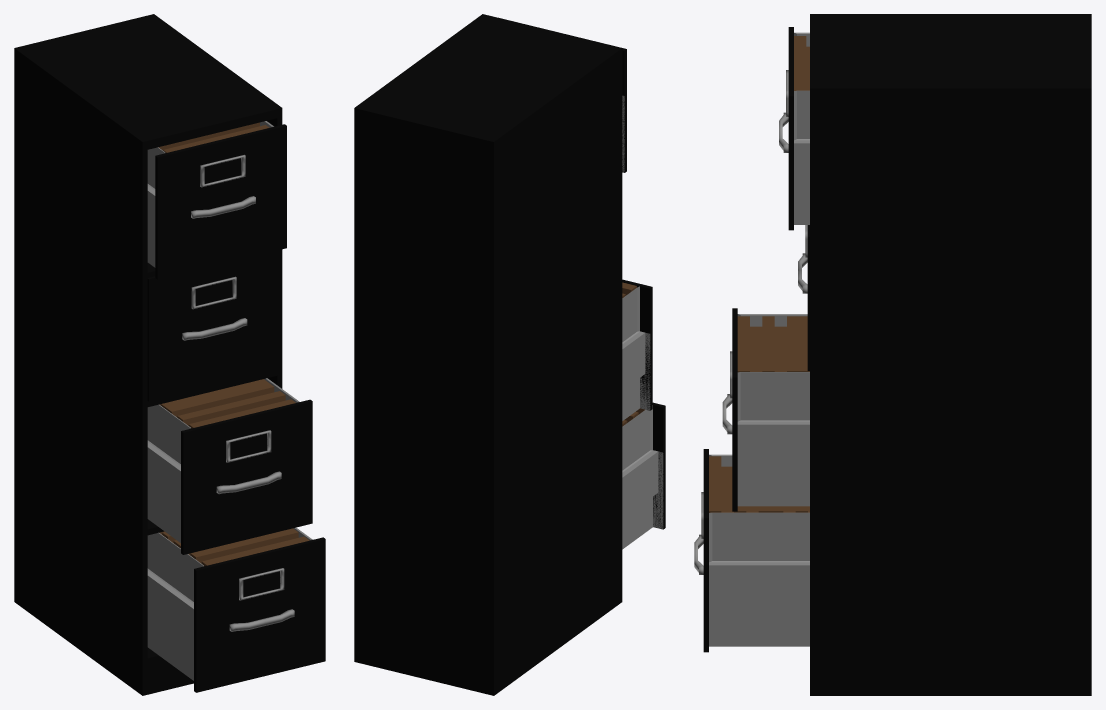
The model's file is TallCabinetOpen.fbx.
The picture shows the model from 3 angles, left to right: view 1: azimuth 30°, elevation 25°; view 2: azimuth 150°, elevation 25°; view 3: azimuth 270°, elevation 25°; orthographic projection. The views are drawn at different scales.
Parts seen in each view (by area): view 1: Cabinet, Cabinet Drawers, Cube, Files; view 2: Cabinet, Cube, Cabinet Drawers; view 3: Cabinet, Cube, Files, Cabinet Drawers.
Part boxes in pixels (left/top/right/bottom): Cabinet: left=14, top=14, right=282, bottom=695; Cabinet Drawers: left=147, top=124, right=325, bottom=692; Cube: left=147, top=121, right=312, bottom=680; Files: left=158, top=122, right=309, bottom=566; Cabinet: left=354, top=14, right=622, bottom=695; Cube: left=622, top=95, right=663, bottom=549; Cabinet Drawers: left=498, top=17, right=665, bottom=529; Cabinet: left=810, top=14, right=1091, bottom=695; Cube: left=694, top=32, right=809, bottom=646; Files: left=709, top=36, right=809, bottom=512; Cabinet Drawers: left=703, top=27, right=809, bottom=652.
Size of the model in its own units: 216 by 817 by 485.
